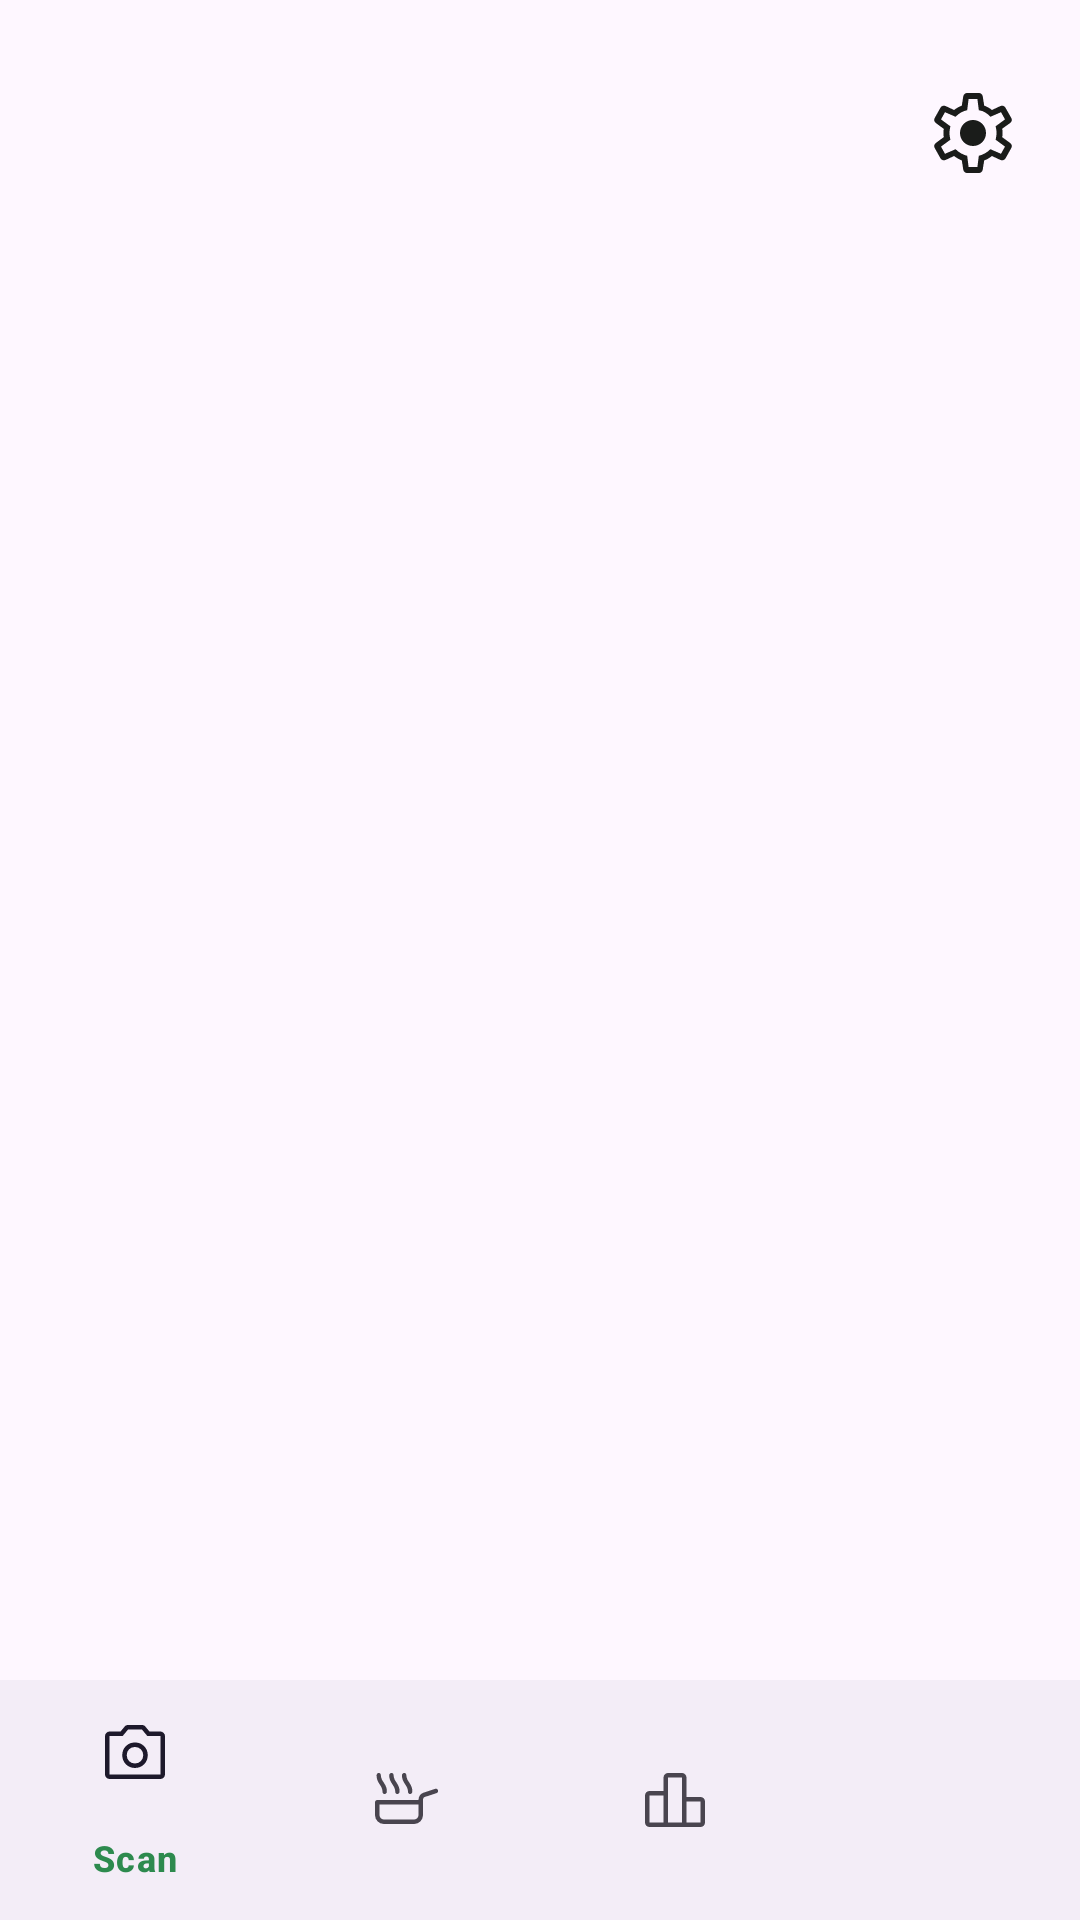

Screen size 1080w x 1920h. Icon name, then its box in pixels as (x1, y1, x2, y2):
settings: (934, 93, 1012, 173)
